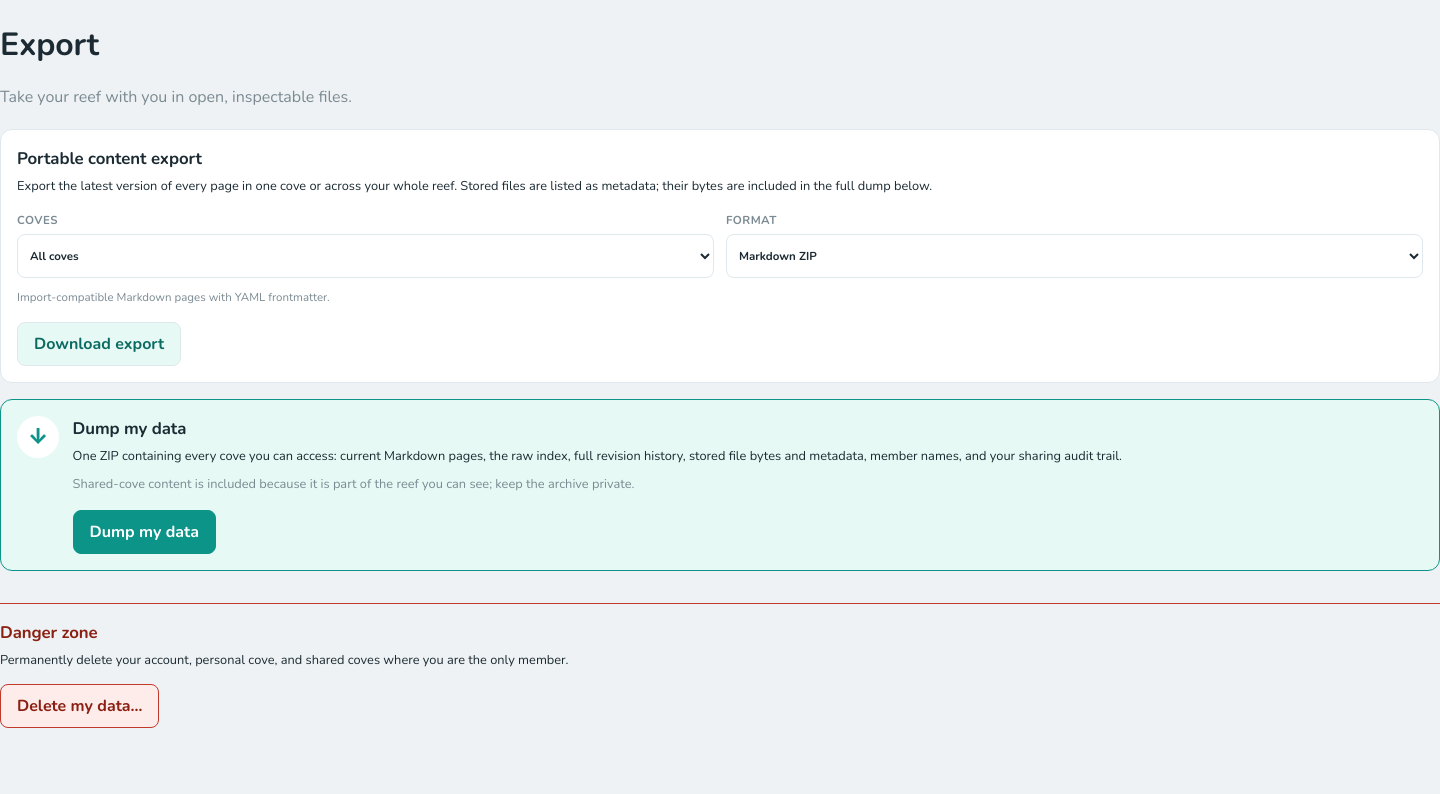
Test: opening the zone says what survives the deletion
This screenshot has width=1440, height=794.
Click the button "Delete my data…" at (80, 706), box [0,684,160,728]
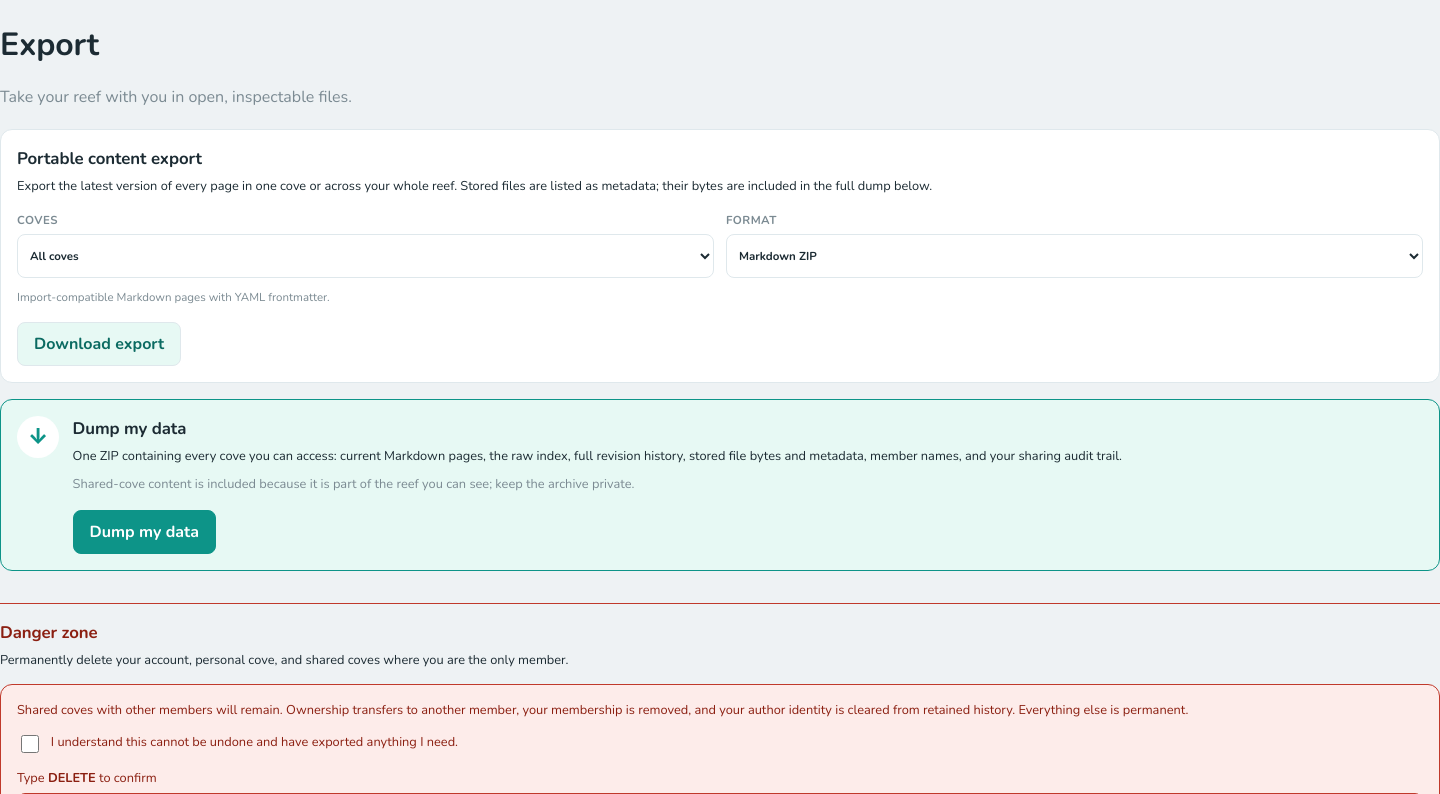
Check: the text "Shared coves with other members will remain" is shown, box [17,701,1188,719]
